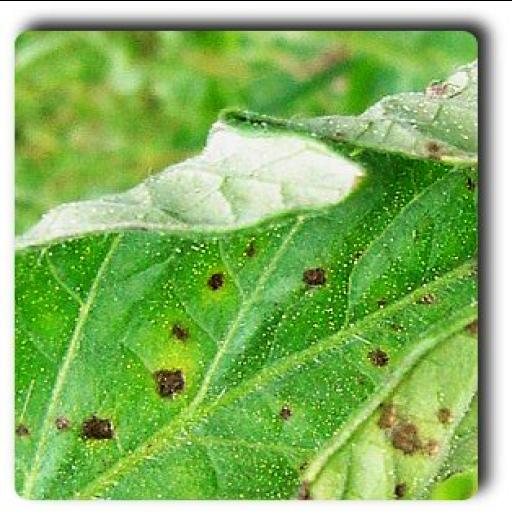disease_tomato: (16, 58, 478, 498)
